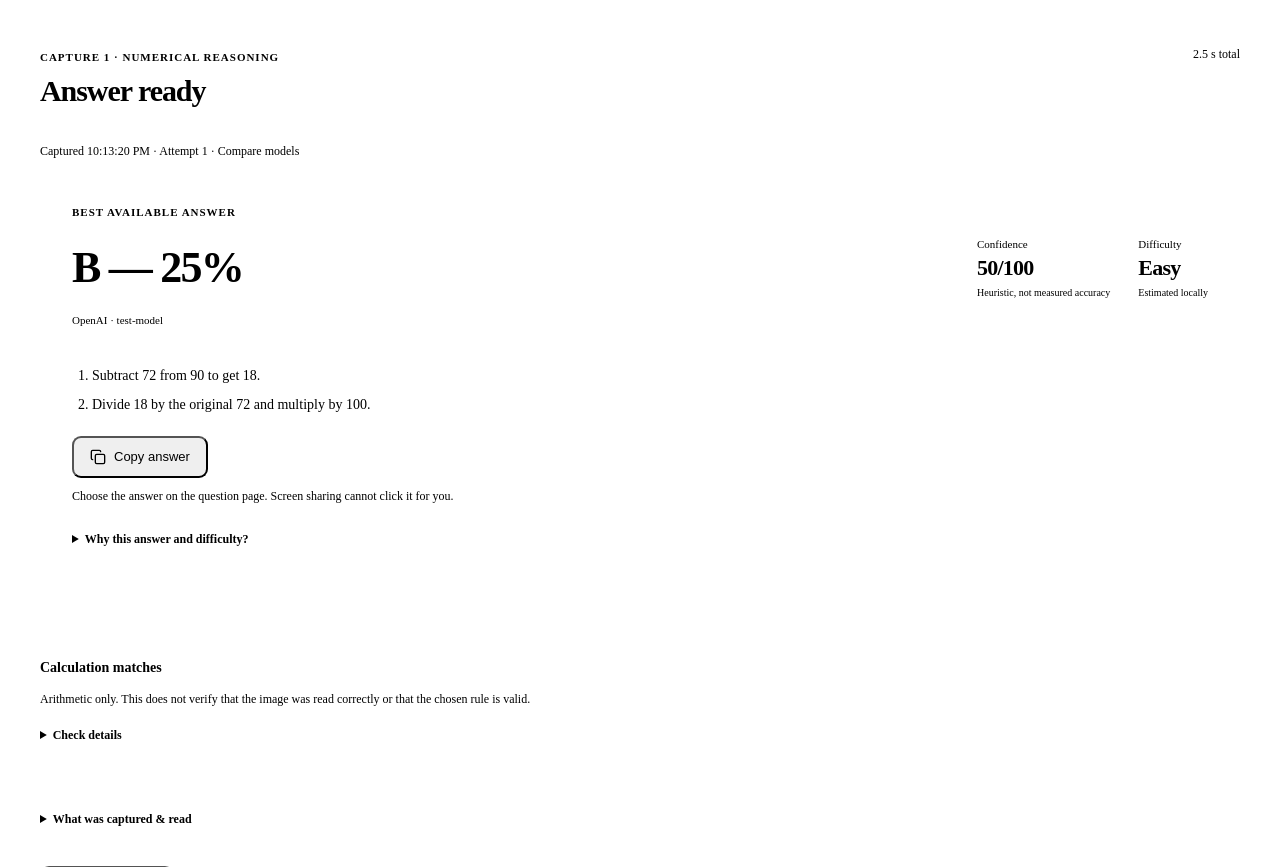
Test: model comparison results › copies the displayed resolved answer and resets feedback for a different capture
Later steps or results of the test are not shown.
Click the button "Copy answer".
click(140, 457)  # box [72,436,208,478]
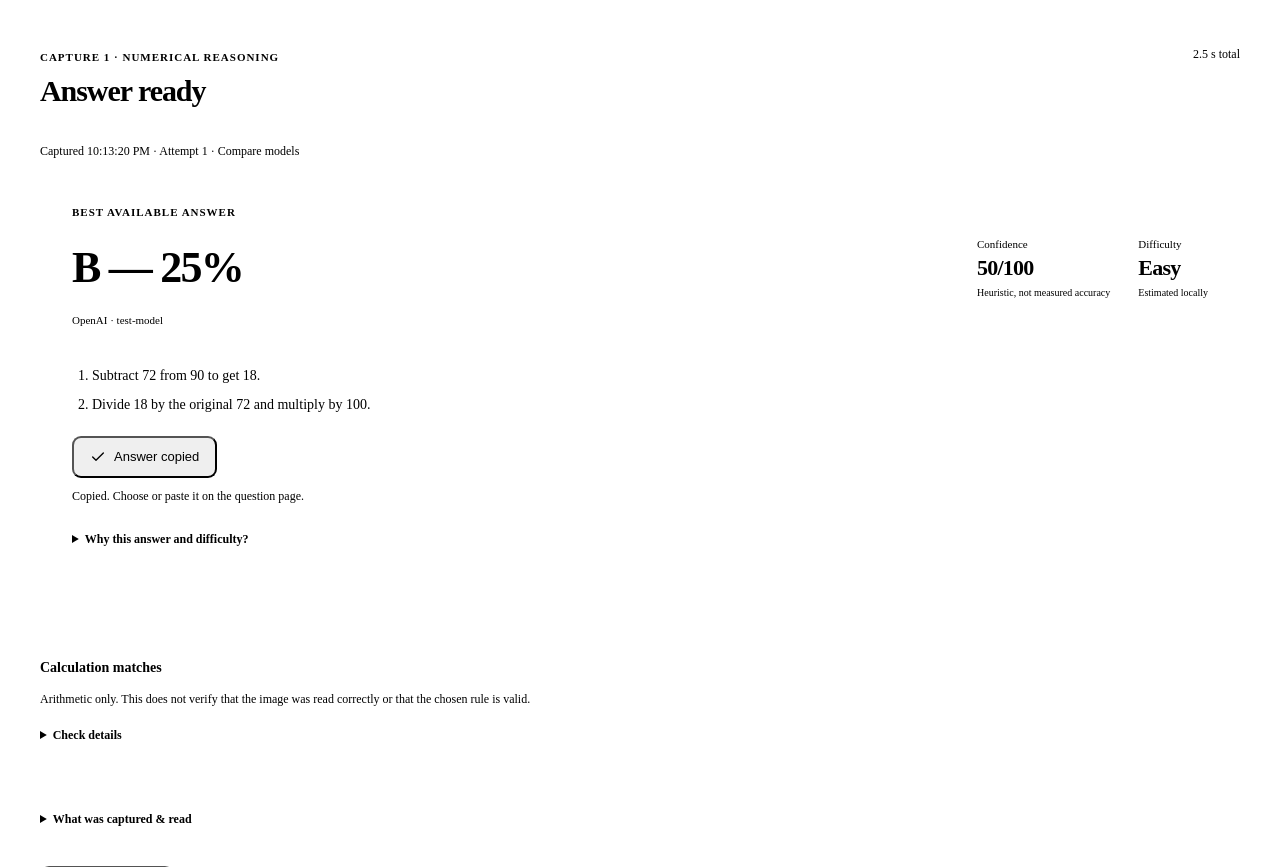
Now the button "Answer copied" is shown, box [72,436,217,478]
Now the message shows "Copied. Choose or paste it", box [72,489,304,503]
